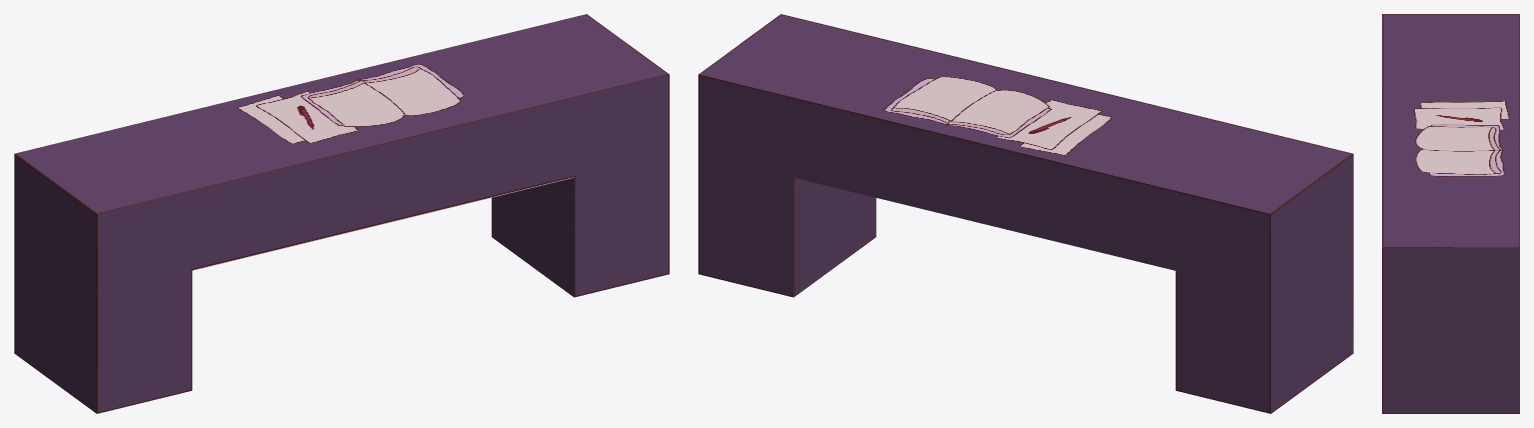
The model's file is Head_Desk.fbx.
The picture shows the model from 3 angles, left to right: view 1: azimuth 30°, elevation 25°; view 2: azimuth 150°, elevation 25°; view 3: azimuth 270°, elevation 25°; orthographic projection. The views are drawn at different scales.
Visible parts, largest first — view 1: Box001; view 2: Box001; view 3: Box001.
Boxes of the visible parts, bbox=[...] form: Box001: bbox=[14, 14, 669, 413]; Box001: bbox=[698, 14, 1353, 413]; Box001: bbox=[1382, 14, 1519, 413].
Size of the model in its own units: 120 by 40 by 30.
Materials: 1 (1 with a texture image).
